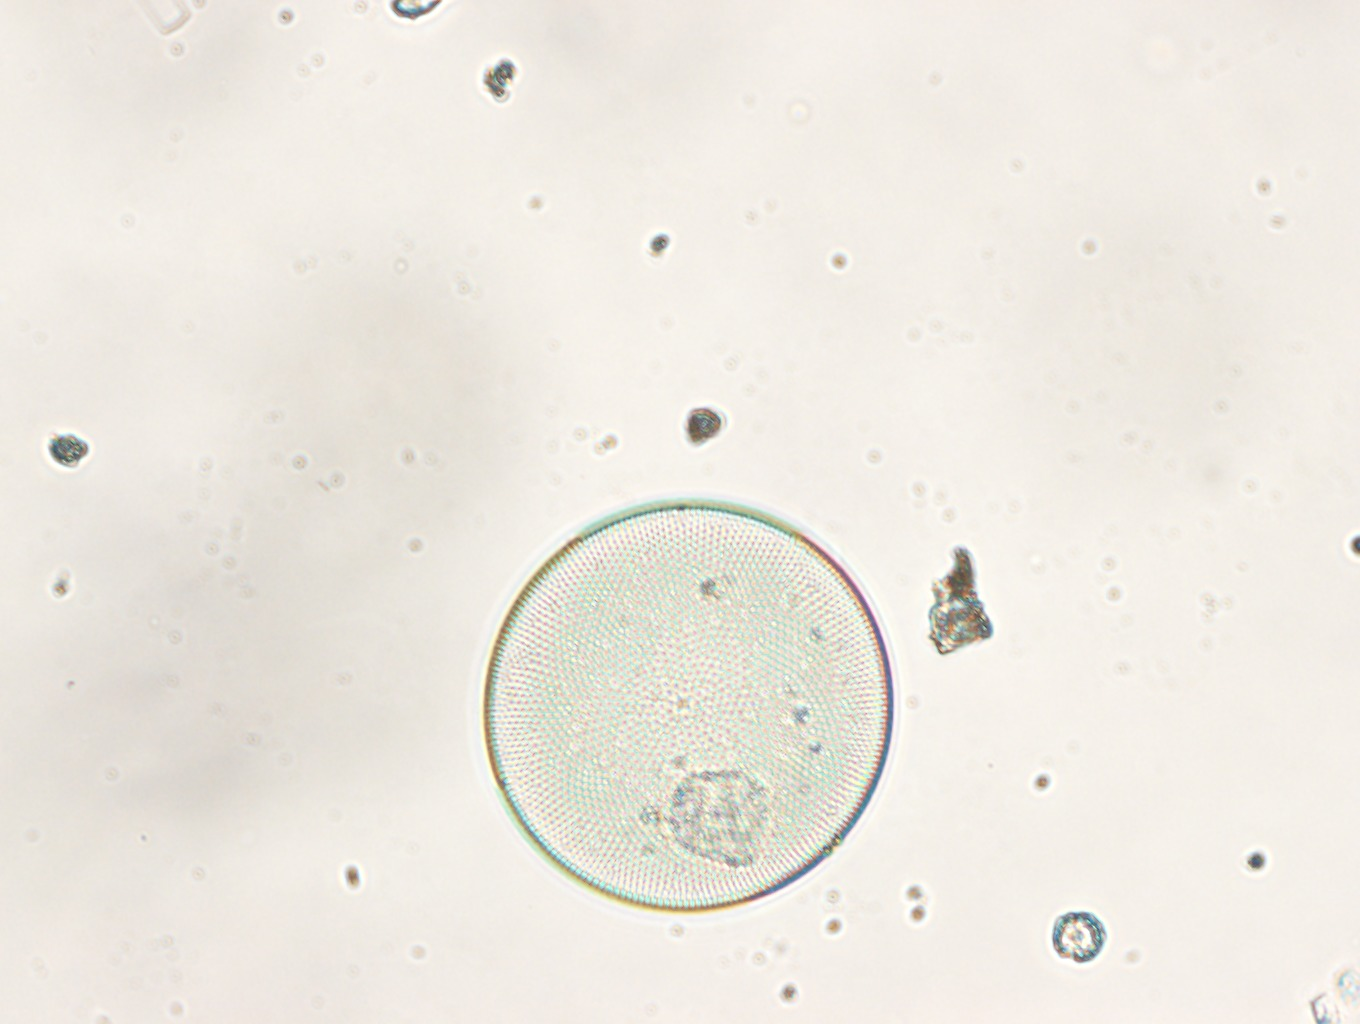coscinodiscus: (483, 501, 896, 915)
